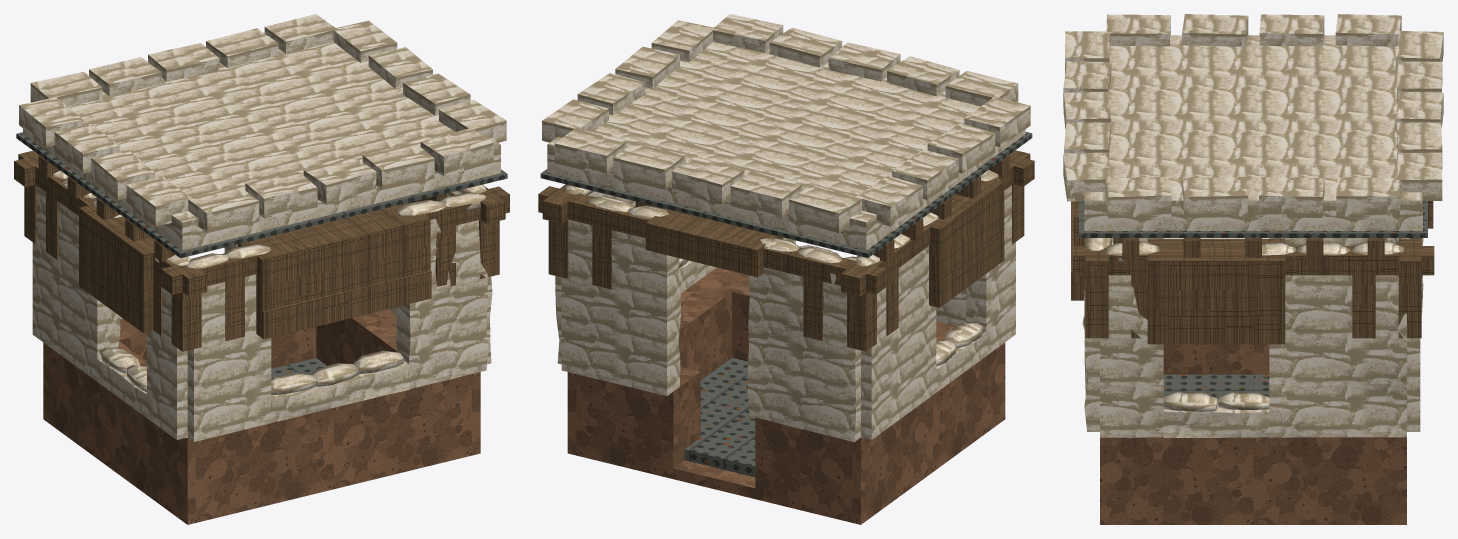
Rendered from fb_bunker_fighting.glb.
3 views of the same model, side by side, from view 1: azimuth 30°, elevation 25°; view 2: azimuth 150°, elevation 25°; view 3: azimuth 270°, elevation 25° (orthographic). The views are drawn at different scales.
Visible parts, largest first — view 1: fb_bunker_fighting; view 2: fb_bunker_fighting; view 3: fb_bunker_fighting.
Part boxes in pixels (x1=…): fb_bunker_fighting: x1=14, y1=14, x2=509, y2=524; fb_bunker_fighting: x1=538, y1=14, x2=1034, y2=524; fb_bunker_fighting: x1=1063, y1=14, x2=1443, y2=524.
Size of what is drawn, in the model's own units: 4.1 by 3.58 by 3.6.
4 materials, 4 textured.
